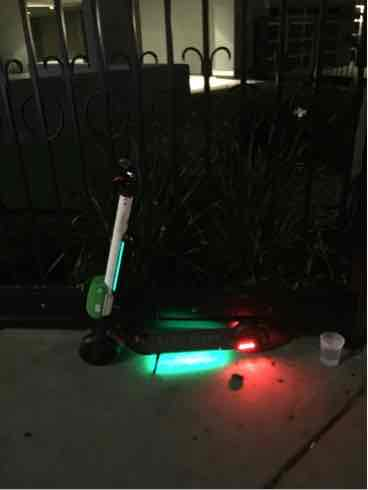scooter: (63, 138, 318, 388)
